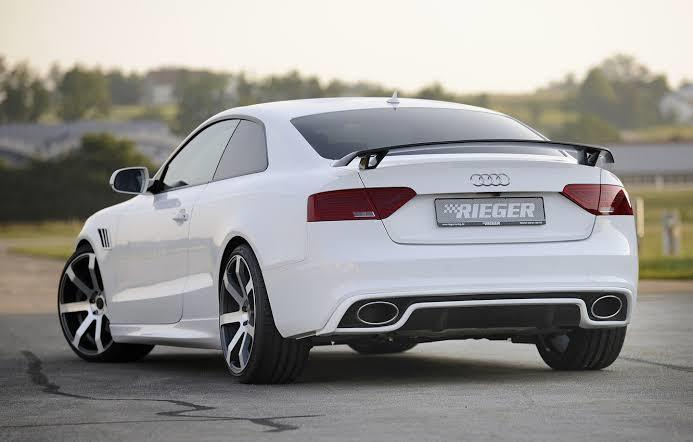audi: (55, 88, 644, 385)
